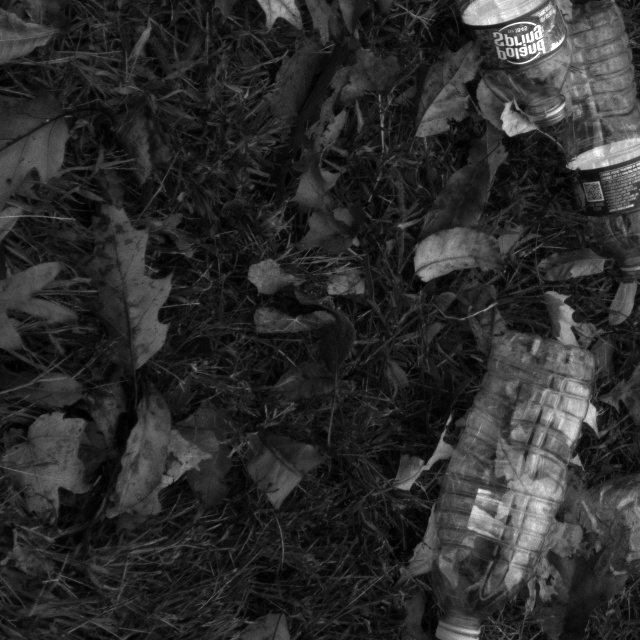bottle: (423, 334, 599, 640), (540, 0, 640, 279), (429, 0, 578, 123), (586, 452, 640, 570)
